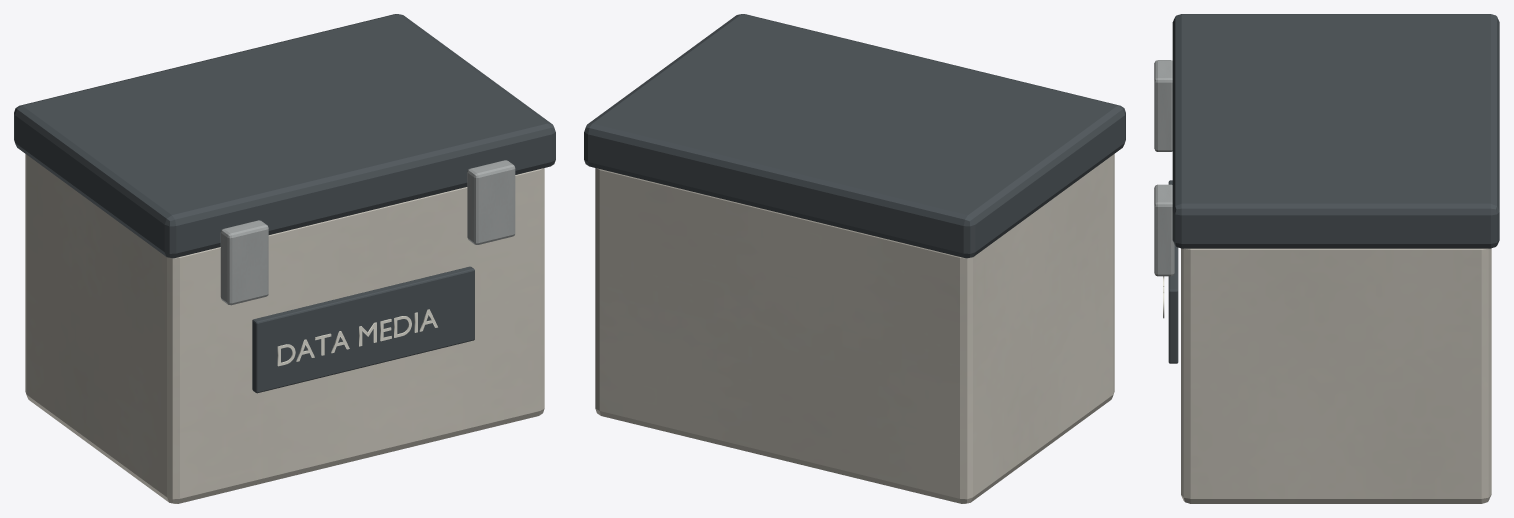
File: cartridge_storage_case.glb
3 renders of one model, left to right at view 1: azimuth 30°, elevation 25°; view 2: azimuth 150°, elevation 25°; view 3: azimuth 270°, elevation 25°, orthographic. The views are drawn at different scales.
Parts seen in each view (by area): view 1: StorageBox, Lid, LabelPanel.001, Latch.002, Latch.003, LABEL_DATA_MEDIA; view 2: StorageBox, Lid; view 3: StorageBox, Lid, Latch.003, Latch.002, LabelPanel.001.
Boxes of the visible parts, x1,y1,x2,y2 form: StorageBox: (25,154,544,503); Lid: (14,14,555,258); LabelPanel.001: (252,266,474,393); Latch.002: (220,220,268,305); Latch.003: (467,160,515,244); LABEL_DATA_MEDIA: (277,309,437,366); StorageBox: (595,154,1114,503); Lid: (584,14,1125,258); StorageBox: (1181,248,1491,503); Lid: (1172,14,1499,248); Latch.003: (1154,184,1174,276); Latch.002: (1154,60,1172,151); LabelPanel.001: (1168,180,1178,363).
Bounding box in the file's own units: 0.57 × 0.41 × 0.4225.
Materials: 4 (2 with a texture image).
